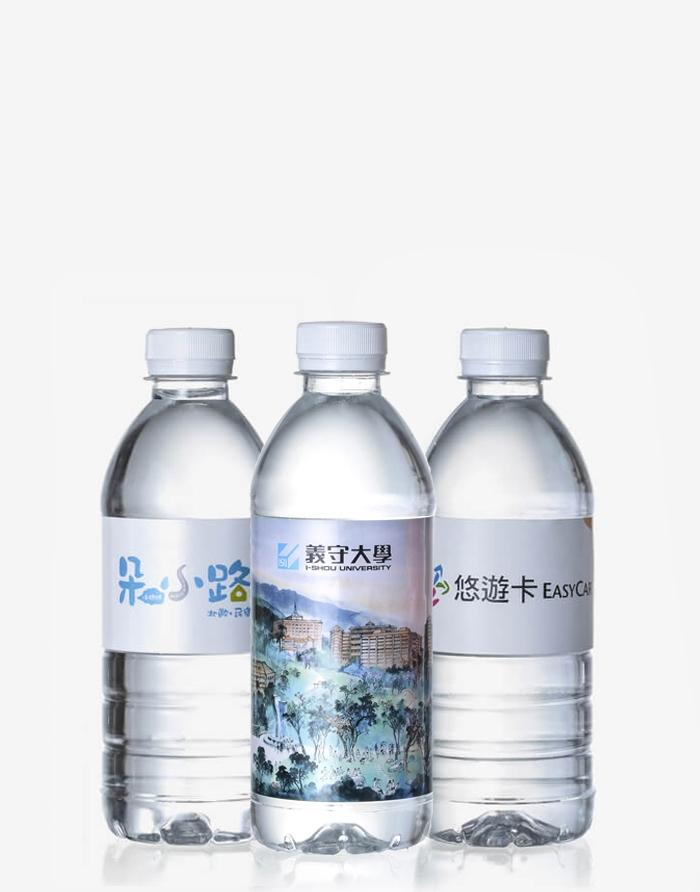bottle: (238, 314, 444, 865), (400, 320, 603, 865), (95, 267, 294, 809)
